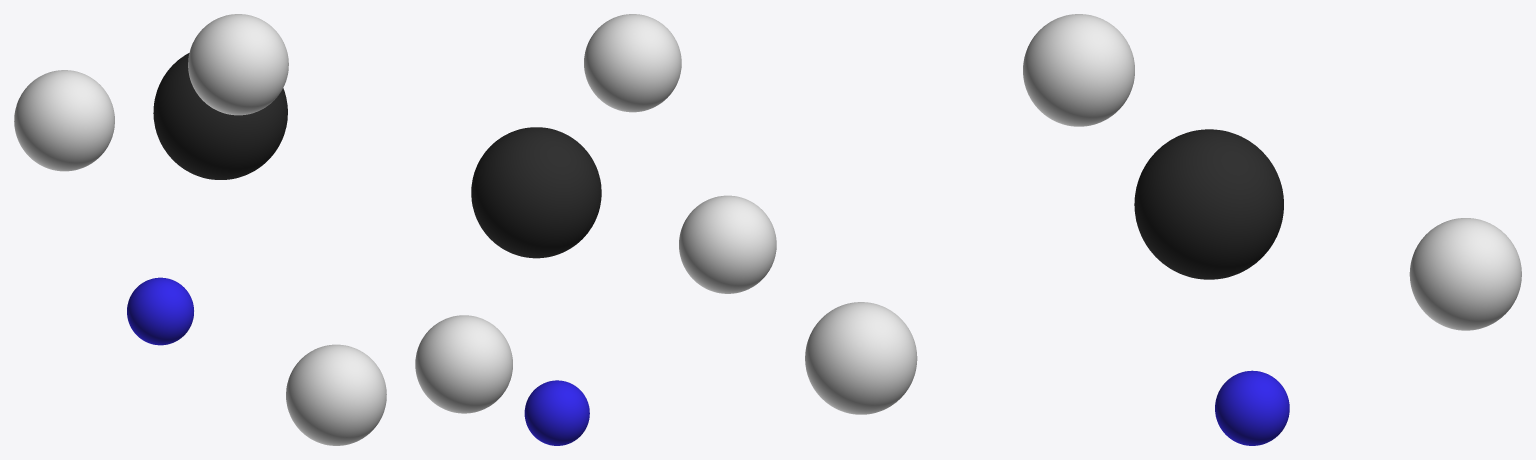
Rendered from spheresAndEnvironment.glb.
3 views of the same model, side by side, from view 1: azimuth 30°, elevation 25°; view 2: azimuth 150°, elevation 25°; view 3: azimuth 270°, elevation 25° (orthographic). The views are drawn at different scales.
Parts seen in each view (by area): view 1: black, white, white.001, white.002, blue; view 2: black, white.002, white, white.001, blue; view 3: black, white, white.002, white.001, blue.
Boxes of the visible parts, <box> form: black: <box>153,53,287,179</box>; white: <box>286,344,386,445</box>; white.001: <box>188,14,288,115</box>; white.002: <box>14,70,114,171</box>; blue: <box>127,277,193,345</box>; black: <box>471,127,601,258</box>; white.002: <box>415,315,512,413</box>; white: <box>679,195,776,293</box>; white.001: <box>584,14,681,112</box>; blue: <box>524,380,589,445</box>; black: <box>1134,129,1283,279</box>; white: <box>805,302,917,414</box>; white.002: <box>1409,218,1521,330</box>; white.001: <box>1023,14,1134,126</box>; blue: <box>1215,370,1289,445</box>.
Size of the model in its own units: 2.42 by 6.17 by 9.46.
